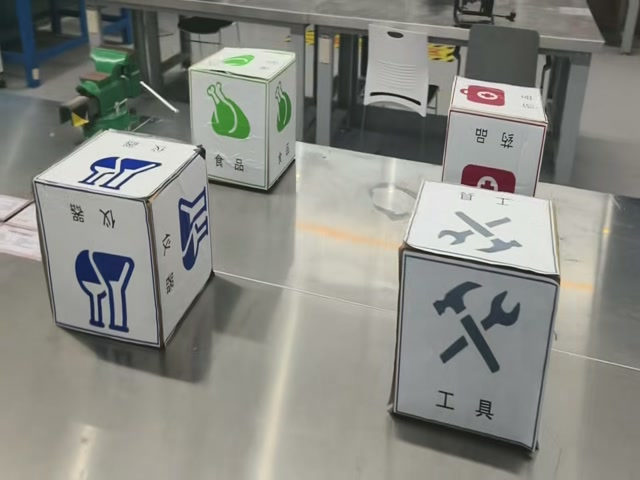Cube_food: (188, 47, 295, 86)
Cube_ins: (36, 135, 207, 207)
Cube_medicine: (450, 78, 548, 128)
Cube_tool: (402, 177, 562, 279)
